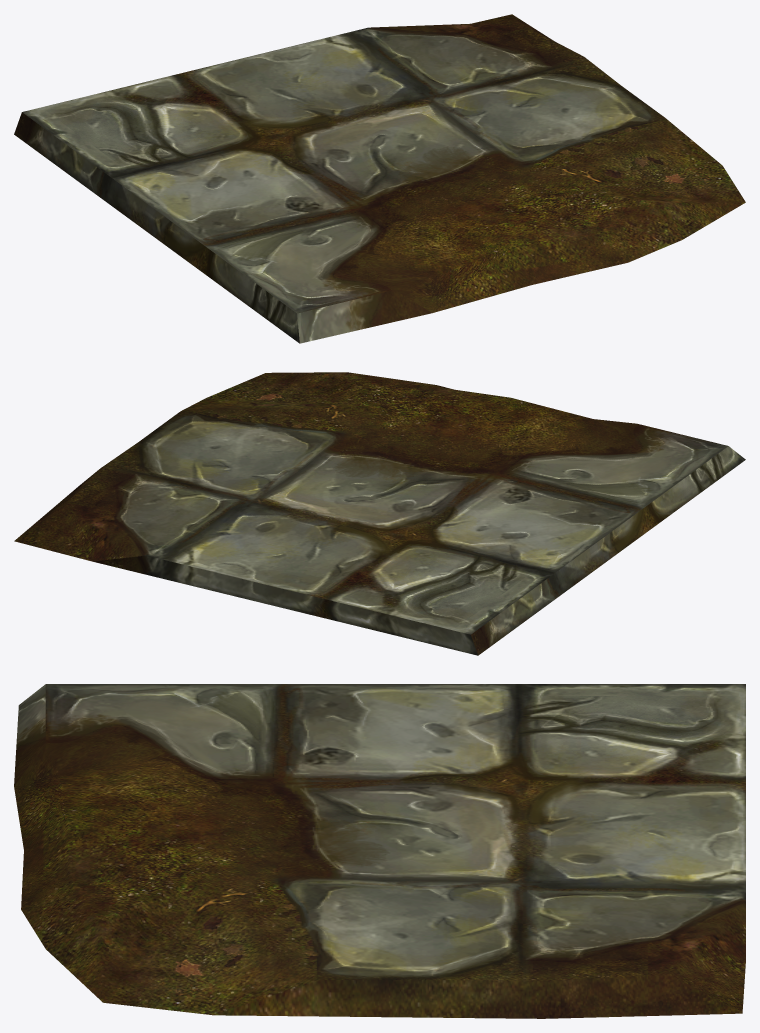
Rendered from C_dizhuan002.fbx.
3 renders of one model, top to bottom at view 1: azimuth 30°, elevation 25°; view 2: azimuth 150°, elevation 25°; view 3: azimuth 270°, elevation 25°, orthographic. The views are drawn at different scales.
Visible parts, largest first — view 1: C_dizhuan002; view 2: C_dizhuan002; view 3: C_dizhuan002.
Part boxes in pixels (x1,y1,x2,y2): C_dizhuan002: [14, 14, 745, 343]; C_dizhuan002: [14, 372, 745, 655]; C_dizhuan002: [14, 684, 745, 1018].
Size of the model in its own units: 506 by 23.17 by 499.
